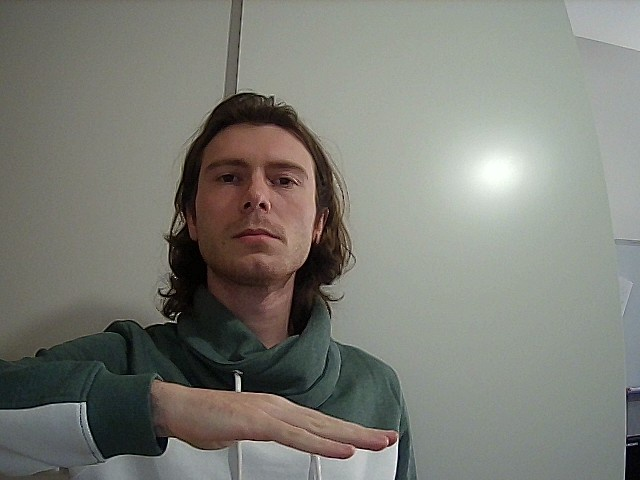space: (1, 330, 492, 472)
